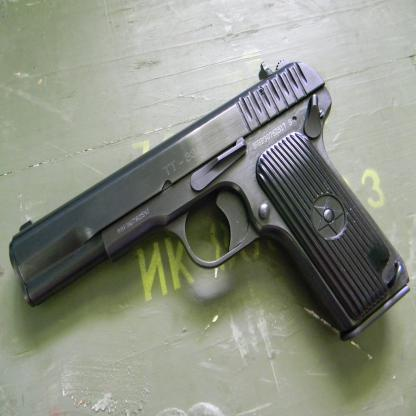Pistol: (8, 57, 412, 341)
